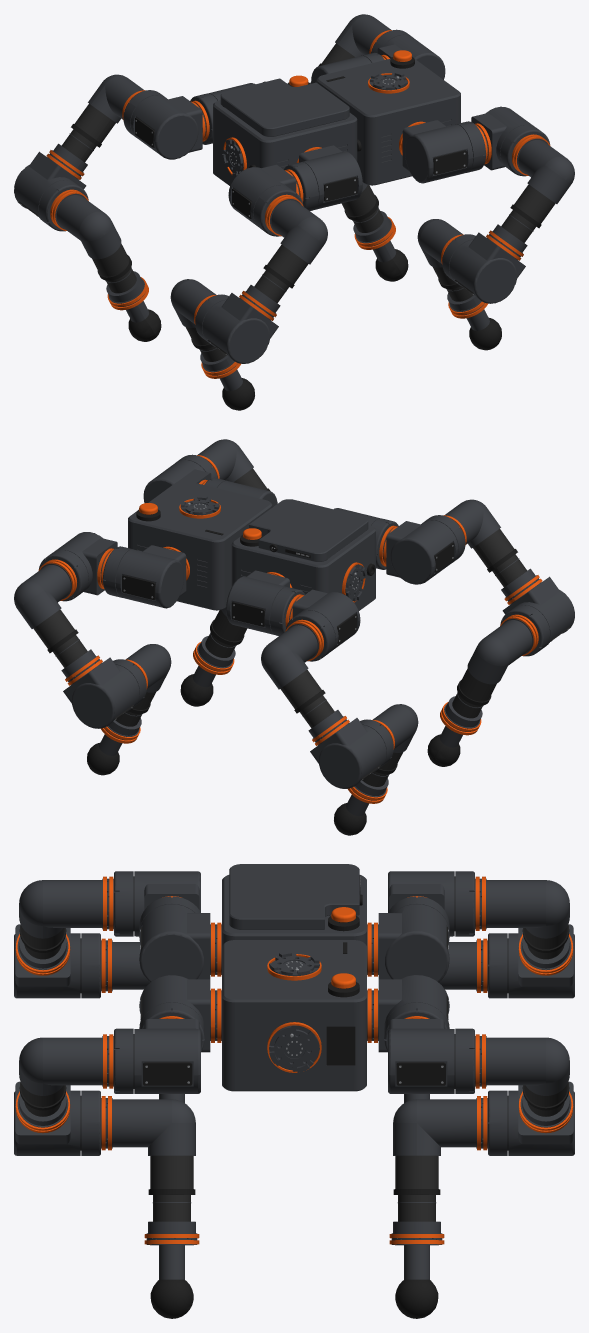
Rendered from morph_quadruped.glb.
The picture shows the model from 3 angles, top to bottom: view 1: azimuth 30°, elevation 25°; view 2: azimuth 150°, elevation 25°; view 3: azimuth 270°, elevation 25°; orthographic projection. The views are drawn at different scales.
Visible parts, largest first — view 1: hub_housing, battery_housing, hub_2_housing, joint_k2_housing, joint_k4_housing, joint_h3_housing, joint_a2_housing, link_s3_elbow_casting, link_t4_elbow_casting, link_t2_elbow_casting, joint_a4_housing, joint_k3_housing (+29 smaller); view 2: hub_housing, hub_2_housing, battery_housing, joint_k1_housing, joint_k3_housing, joint_h4_housing, joint_a1_housing, link_s4_elbow_casting, link_t3_elbow_casting, link_t1_elbow_casting, joint_a3_housing, joint_k4_housing (+29 smaller); view 3: hub_housing, battery_housing, joint_a4_housing, joint_a3_housing, link_s1_elbow_casting, link_s2_elbow_casting, link_t1_elbow_casting, link_t2_elbow_casting, link_t3_elbow_casting, link_t4_elbow_casting, joint_h1_housing, joint_h2_housing (+40 smaller).
Part boxes in pixels (<box>): hub_housing: <box>316,58,460,185</box>; battery_housing: <box>220,78,349,136</box>; hub_2_housing: <box>213,100,357,185</box>; joint_k2_housing: <box>449,232,525,303</box>; joint_k4_housing: <box>202,293,278,363</box>; joint_h3_housing: <box>130,95,202,159</box>; joint_a2_housing: <box>402,120,473,183</box>; link_s3_elbow_casting: <box>56,195,121,259</box>; link_t4_elbow_casting: <box>271,200,327,264</box>; link_t2_elbow_casting: <box>518,140,574,203</box>; joint_a4_housing: <box>299,145,362,209</box>; joint_k3_housing: <box>14,151,86,222</box>; hub_housing: <box>128,480,272,610</box>; hub_2_housing: <box>231,525,375,610</box>; battery_housing: <box>249,499,368,561</box>; joint_k1_housing: <box>63,657,139,728</box>; joint_k3_housing: <box>310,718,386,788</box>; joint_h4_housing: <box>386,520,458,584</box>; joint_a1_housing: <box>115,545,186,608</box>; link_s4_elbow_casting: <box>467,620,532,684</box>; link_t3_elbow_casting: <box>261,625,317,689</box>; link_t1_elbow_casting: <box>14,565,70,628</box>; joint_a3_housing: <box>226,570,289,634</box>; joint_k4_housing: <box>502,576,574,647</box>; hub_housing: <box>222,940,366,1091</box>; battery_housing: <box>229,864,359,929</box>; joint_a4_housing: <box>139,904,210,982</box>; joint_a3_housing: <box>378,904,449,982</box>; link_s1_elbow_casting: <box>393,1099,476,1155</box>; link_s2_elbow_casting: <box>112,1099,195,1155</box>; link_t1_elbow_casting: <box>486,1037,569,1095</box>; link_t2_elbow_casting: <box>19,1037,102,1095</box>; link_t3_elbow_casting: <box>486,880,569,938</box>; link_t4_elbow_casting: <box>19,880,102,938</box>; joint_h1_housing: <box>388,1019,454,1093</box>; joint_h2_housing: <box>134,1019,200,1093</box>.
Bounding box in the file's own units: 0.7525 × 0.4998 × 0.774.
